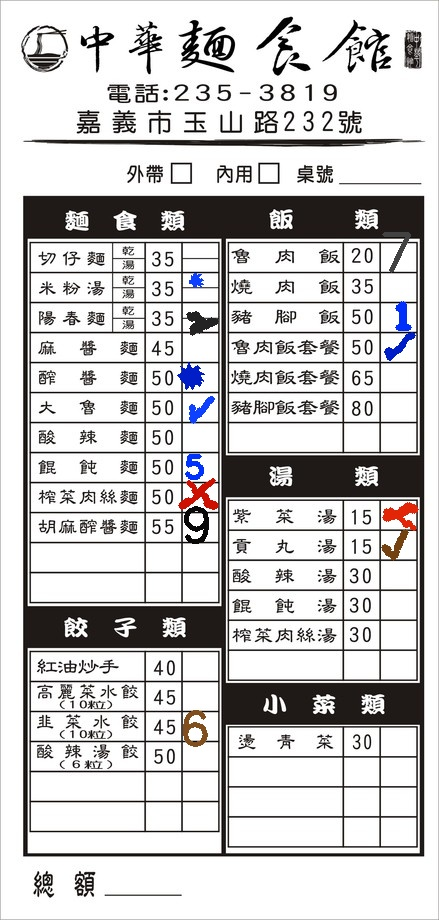marked_circle: (182, 362, 218, 391), (183, 273, 217, 286)
marked_number_1: (380, 302, 416, 331)
marked_number_5: (179, 453, 215, 482)
marked_number_6: (181, 711, 217, 740)
marked_number_7: (381, 242, 417, 271)
marked_number_9: (181, 512, 217, 541)
marked_tick: (380, 531, 416, 560), (378, 332, 414, 361), (181, 392, 217, 421)
marked_x: (181, 483, 217, 512), (381, 500, 417, 529), (183, 317, 217, 330)
